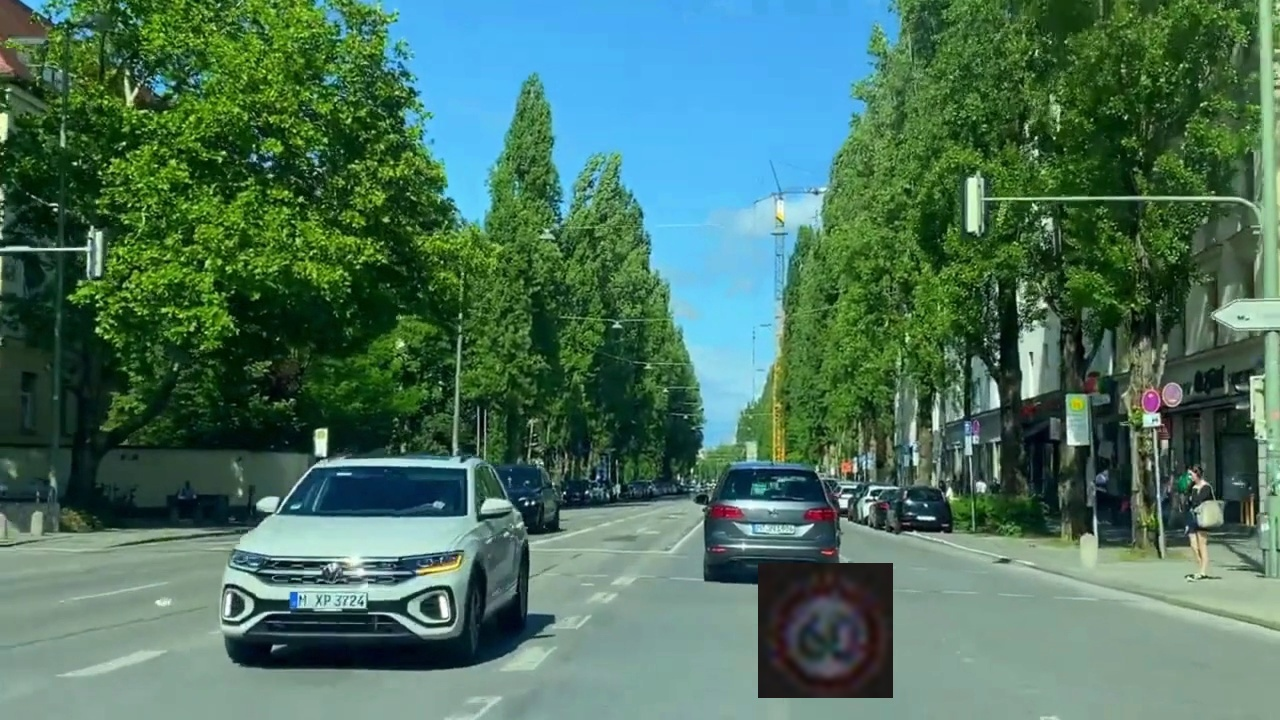Speed 60: (758, 563, 893, 698)
